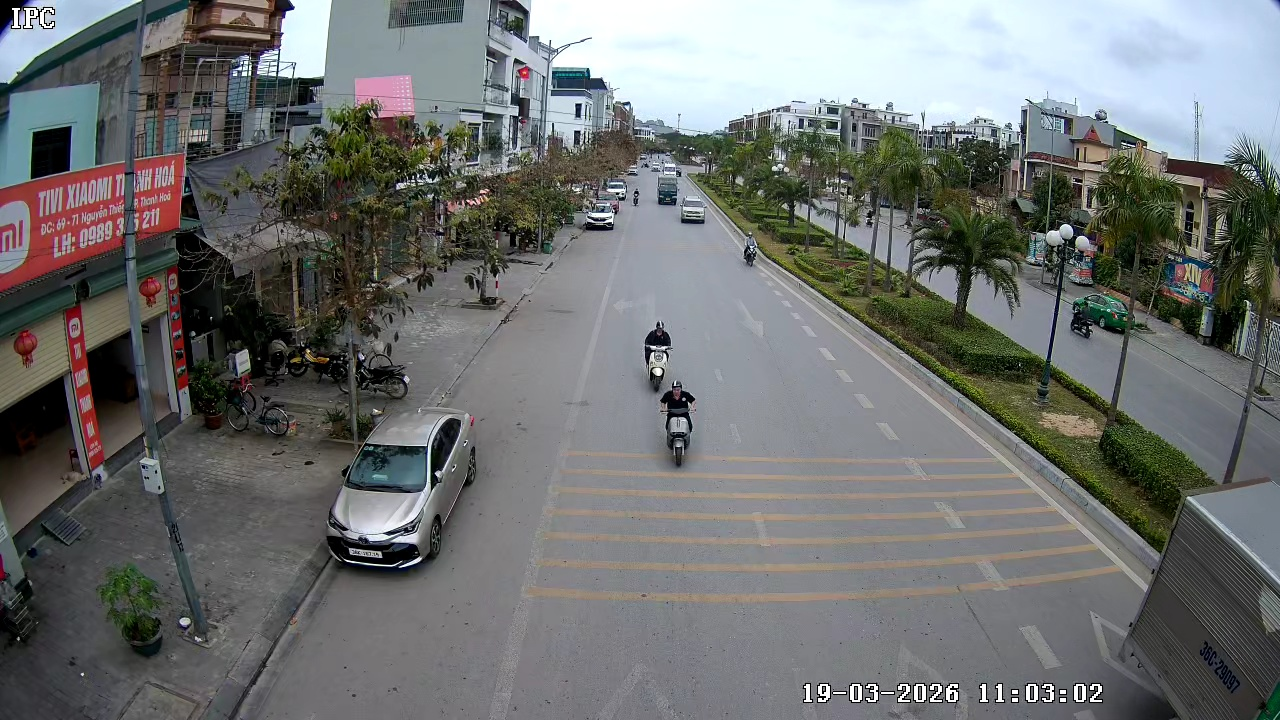car: (325, 406, 478, 571), (582, 203, 619, 232), (678, 194, 707, 225)
motorbike: (656, 377, 699, 469), (641, 317, 674, 391), (741, 234, 758, 268)
truck: (657, 169, 679, 206)
